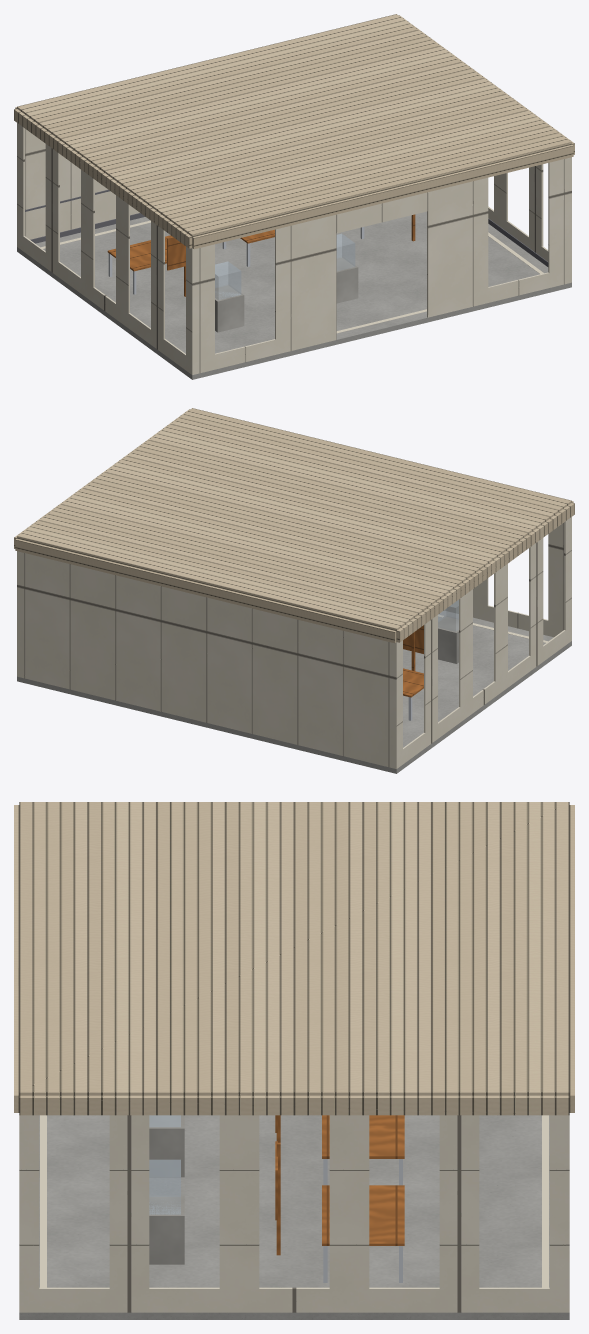
File: spaces-int-studio.glb
The picture shows the model from 3 angles, top to bottom: view 1: azimuth 30°, elevation 25°; view 2: azimuth 150°, elevation 25°; view 3: azimuth 270°, elevation 25°; orthographic projection. The views are drawn at different scales.
Visible parts, largest first — view 1: studio interior; view 2: studio interior; view 3: studio interior.
Part boxes in pixels (x1,y1,x2,y2): studio interior: (14,14,574,379); studio interior: (14,408,574,773); studio interior: (14,802,574,1319).
Bounding box in the file's own units: 10.16 × 3.65 × 8.16.
Materials: 11 (5 with a texture image).
